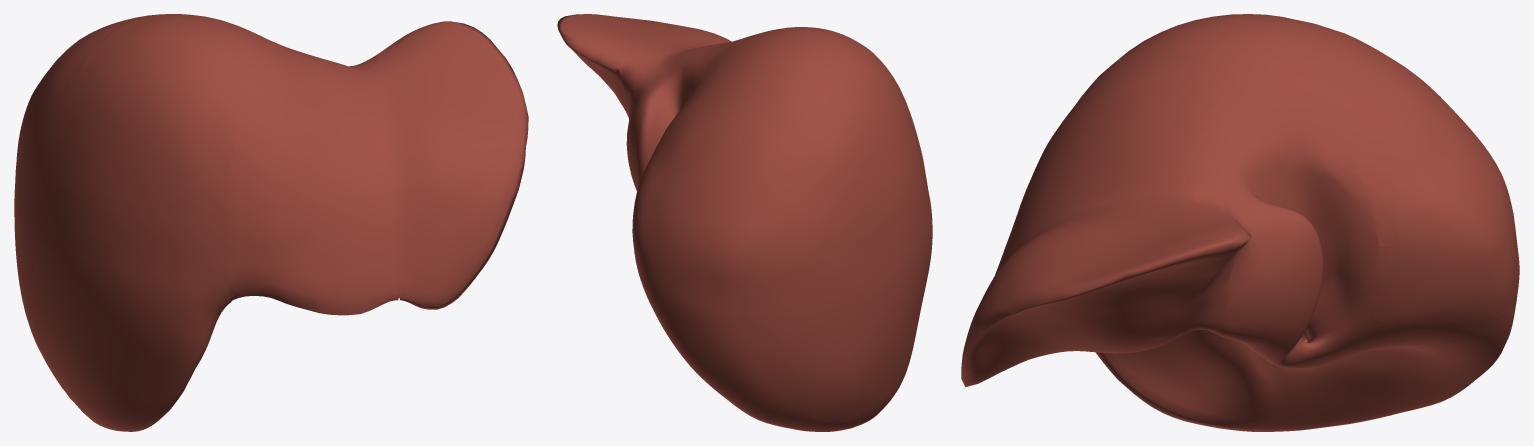
File: liver.glb
3 renders of one model, left to right at view 1: azimuth 30°, elevation 25°; view 2: azimuth 150°, elevation 25°; view 3: azimuth 270°, elevation 25°, orthographic. The views are drawn at different scales.
Parts seen in each view (by area): view 1: Liver_surface; view 2: Liver_surface; view 3: Liver_surface.
Part boxes in pixels (x1,y1,x2,y2): Liver_surface: (14, 14, 528, 431); Liver_surface: (557, 14, 932, 431); Liver_surface: (961, 14, 1519, 431).
Bounding box in the file's own units: 1.97 × 1.8 × 2.
